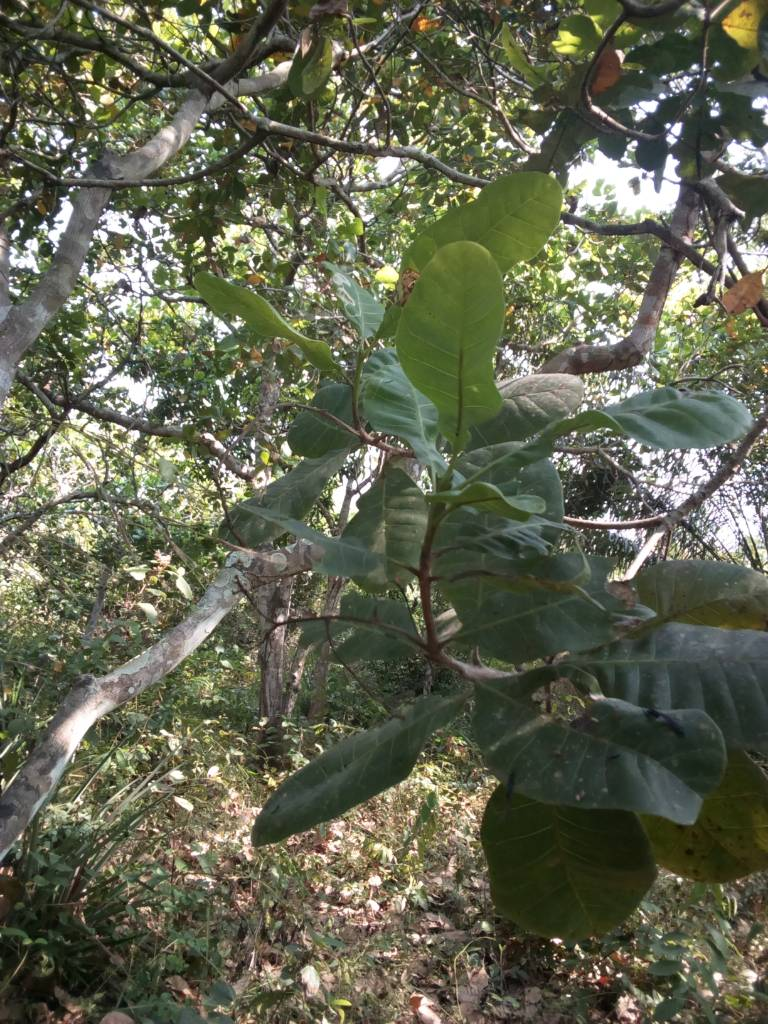Bactériose: (472, 683, 729, 822)
